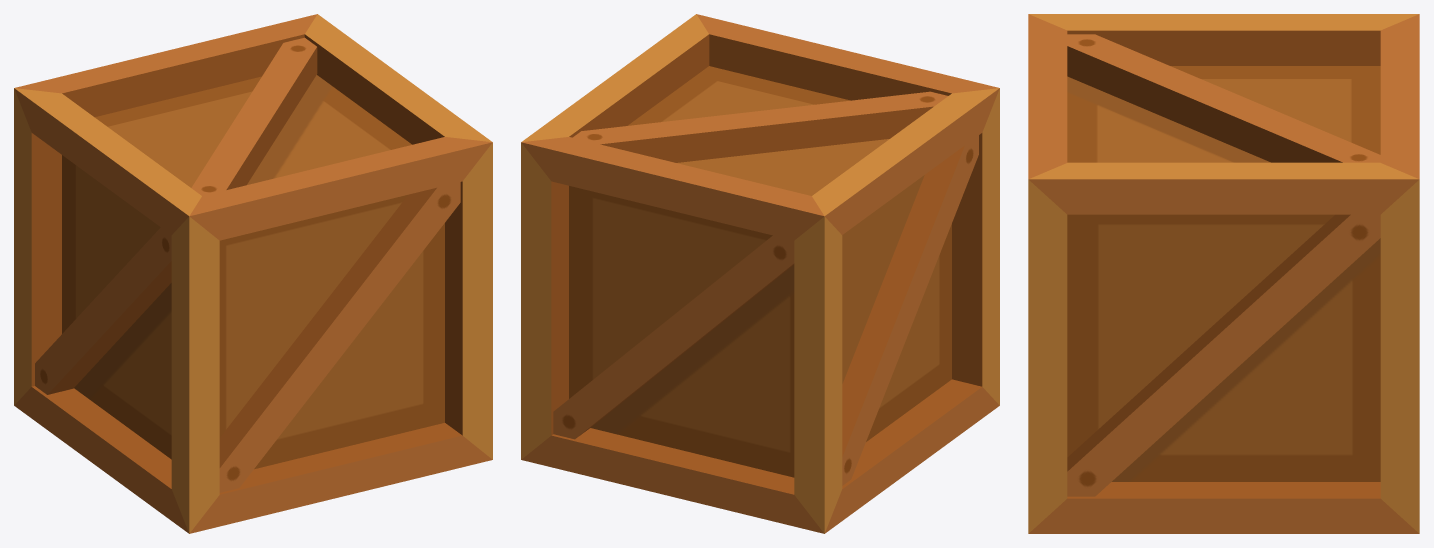
Rendered from role_woodbox_01.fbx.
The picture shows the model from 3 angles, left to right: view 1: azimuth 30°, elevation 25°; view 2: azimuth 150°, elevation 25°; view 3: azimuth 270°, elevation 25°; orthographic projection. The views are drawn at different scales.
Visible parts, largest first — view 1: role_woodbox_01; view 2: role_woodbox_01; view 3: role_woodbox_01.
Part boxes in pixels (<box>): role_woodbox_01: <box>14,14,492,533</box>; role_woodbox_01: <box>521,14,999,533</box>; role_woodbox_01: <box>1028,14,1419,533</box>.
Bounding box in the file's own units: 10 × 10 × 10.
Materials: 1 (1 with a texture image).
